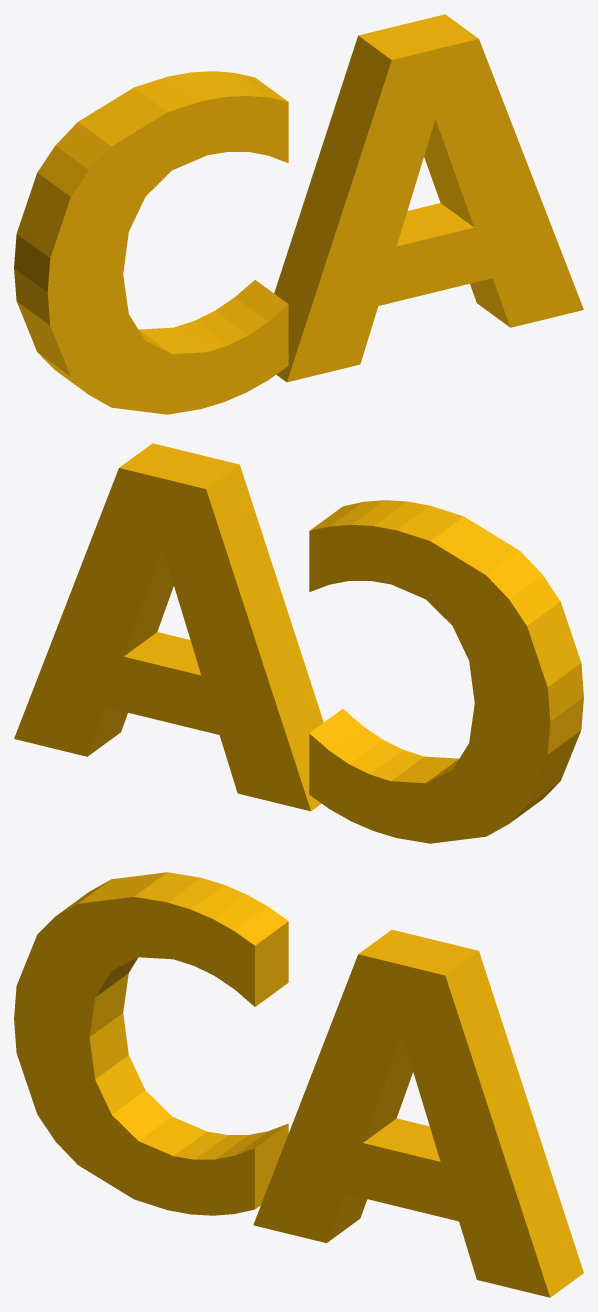
File: suku_besar_ca.glb
3 renders of one model, top to bottom at view 1: azimuth 30°, elevation 25°; view 2: azimuth 150°, elevation 25°; view 3: azimuth 330°, elevation 25°, orthographic.
Visible parts, largest first — view 1: geometry_0; view 2: geometry_0; view 3: geometry_0.
Boxes of the visible parts, x1,y1,x2,y2 form: geometry_0: (14, 14, 583, 414); geometry_0: (14, 443, 583, 843); geometry_0: (14, 872, 583, 1297).
Bounding box in the file's own units: 13.79 × 7.56 × 1.5.
